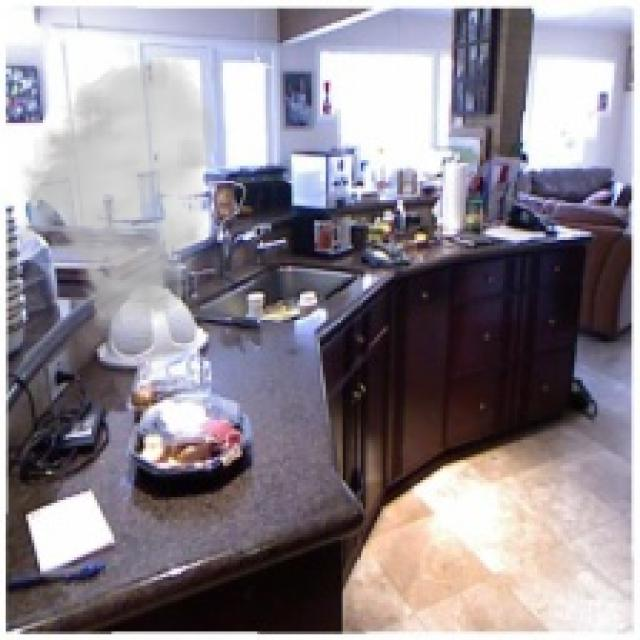smoke: (14, 52, 220, 334)
